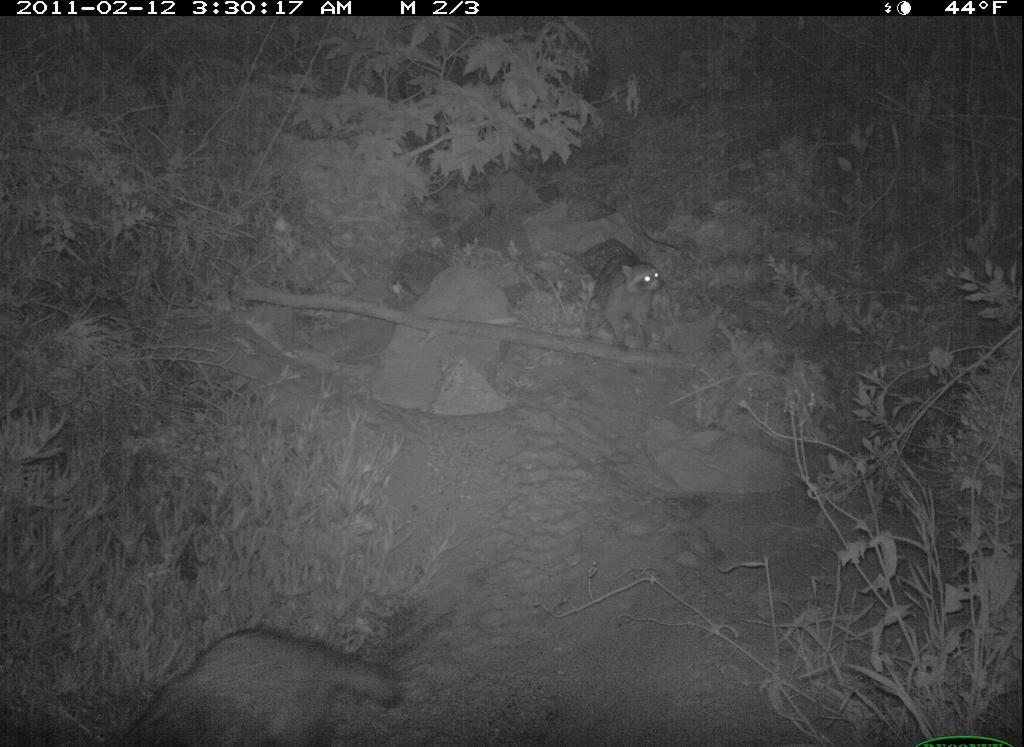raccoon: (121, 621, 418, 747), (577, 240, 669, 353)
